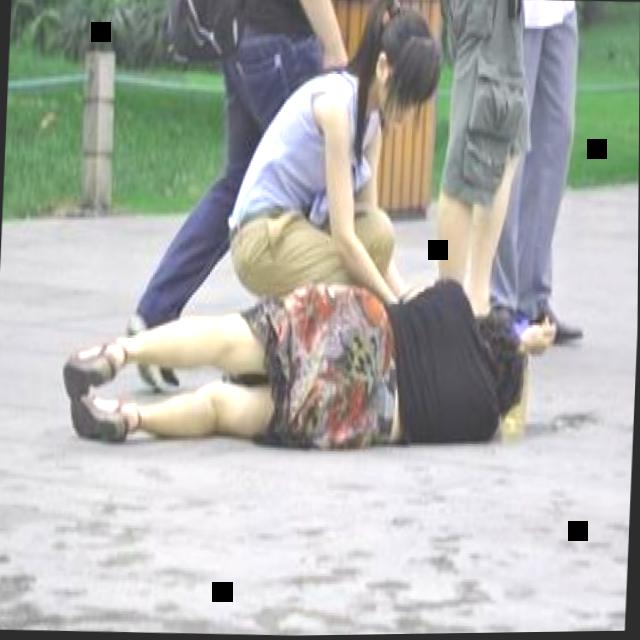Fall-Detected: (54, 250, 570, 466)
